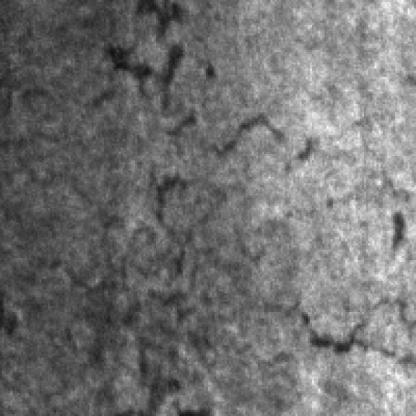crazing: (73, 168, 416, 414), (90, 0, 324, 177)
